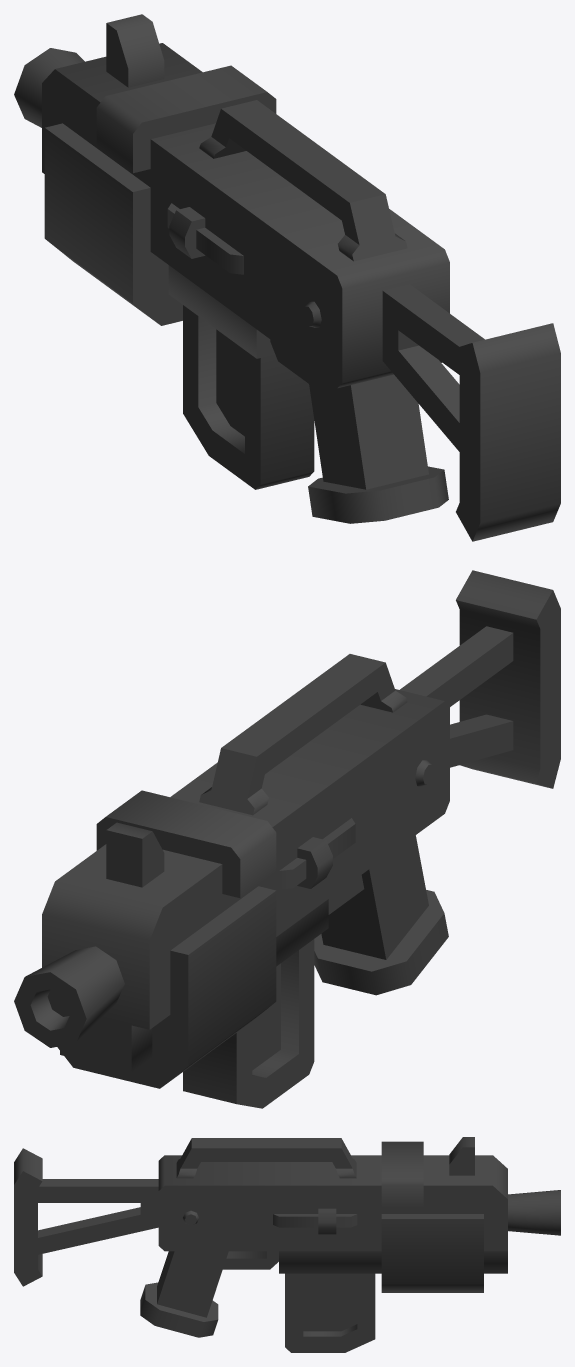
File: blaster-d.glb
3 views of the same model, one above another, from view 1: azimuth 30°, elevation 25°; view 2: azimuth 150°, elevation 25°; view 3: azimuth 270°, elevation 25° (orthographic). The views are drawn at different scales.
Visible parts, largest first — view 1: blaster-d, magazine; view 2: blaster-d, magazine; view 3: blaster-d, magazine.
Boxes of the visible parts, box(x1,y1,x2,y2) form: blaster-d: box(14, 14, 560, 541); magazine: box(183, 305, 314, 489); blaster-d: box(14, 570, 560, 1088); magazine: box(183, 939, 314, 1108); blaster-d: box(14, 1137, 560, 1337); magazine: box(285, 1273, 375, 1352).
Bounding box in the file's own units: 0.165 × 0.3719 × 0.9079.
Materials: 1 (1 with a texture image).
